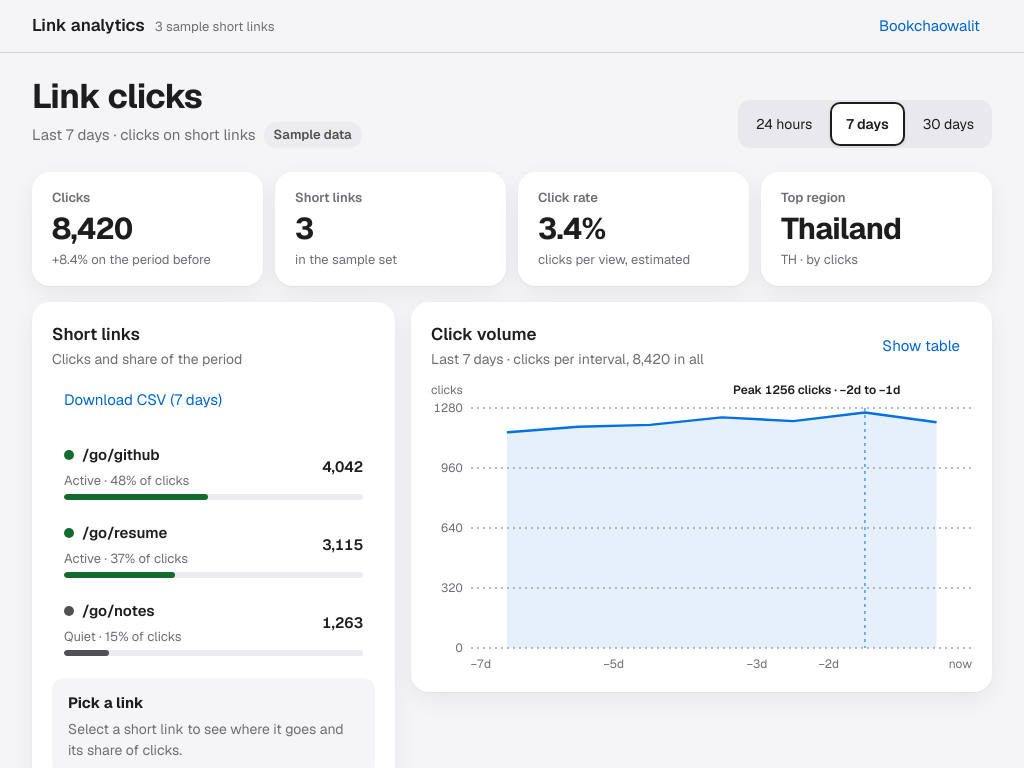
Test: link analytics page › switches the period, the axis ends and the chart table
Click the button "30 days" at (948, 124), box [907,102,990,146]
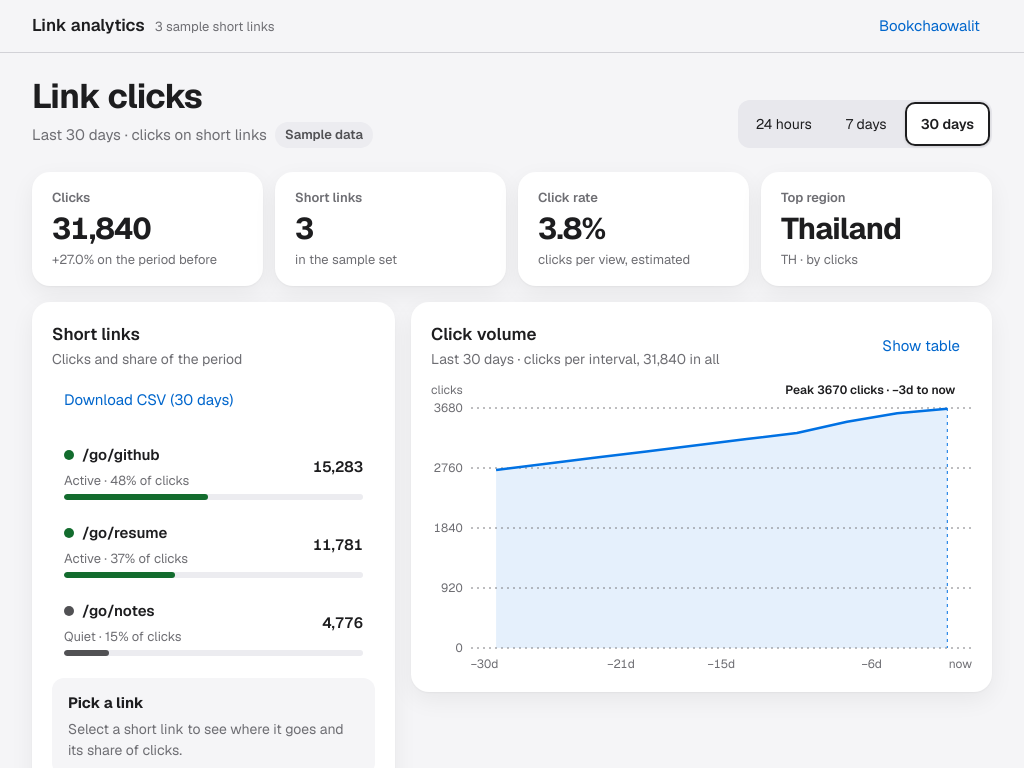
Now the list item with class "ds-stat" reads "Clicks 31,840 +27.0% on the period before", box [32,172,263,286]
Click the heading "Show table" at (921, 345), box [882,336,960,355]
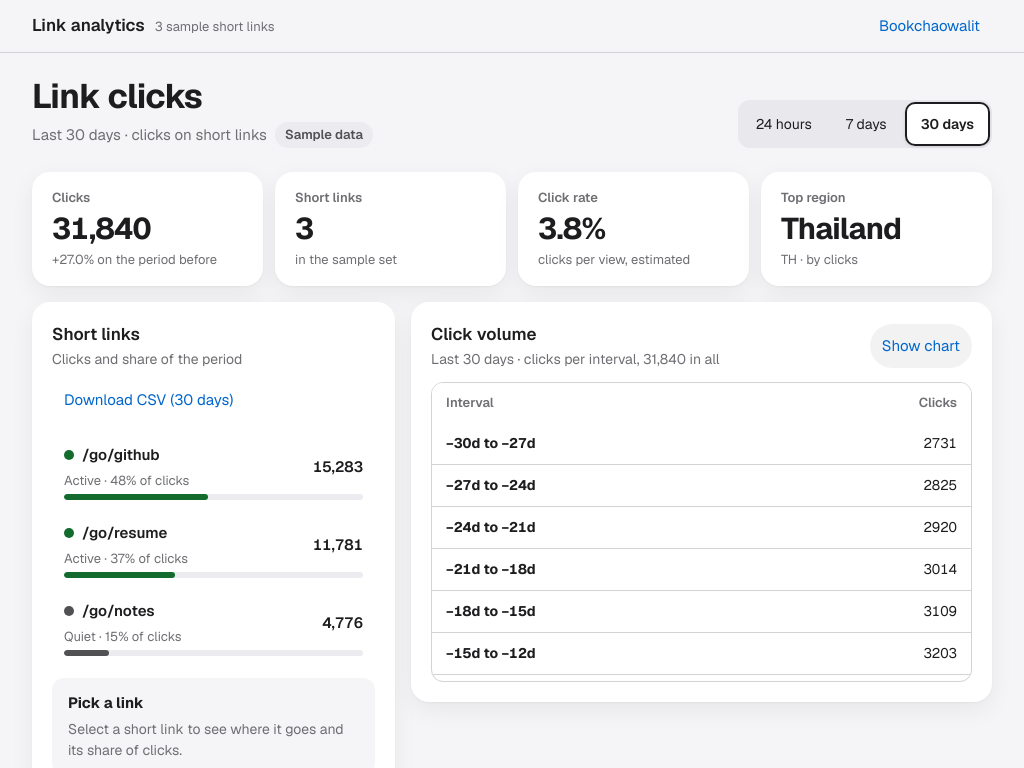
Now the row "−30d to −27d 2731" is shown, box [432,423,971,464]
